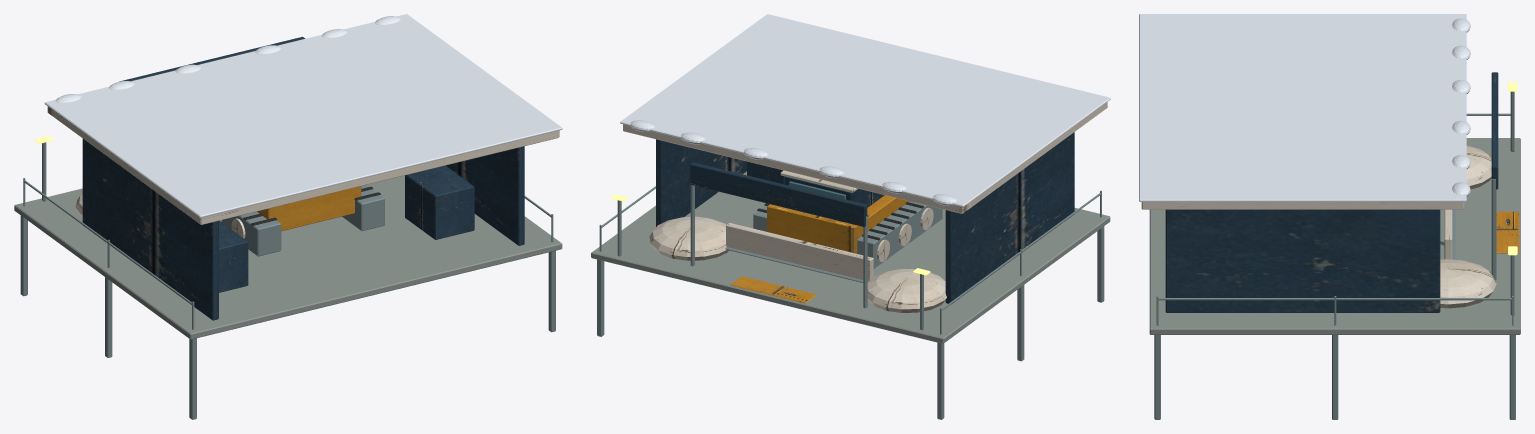
The model's file is frostline.glb.
3 views of the same model, side by side, from view 1: azimuth 30°, elevation 25°; view 2: azimuth 150°, elevation 25°; view 3: azimuth 270°, elevation 25° (orthographic). The views are drawn at different scales.
Parts seen in each view (by area): view 1: static_signature_snow, static_signature_deck, static_signature_paint, static_signature_steel, snow_groomer_signature_paint, snow_groomer_signature_steel; view 2: static_signature_snow, static_signature_paint, static_signature_deck, snow_groomer_signature_paint, static_signature_steel, groomer_blade_signature_paint, snow_groomer_signature_steel, groomer_blade_signature_steel; view 3: static_signature_snow, static_signature_paint, static_signature_deck, static_signature_steel, groomer_blade_signature_paint.
Part boxes in pixels (left/top/right/bottom): static_signature_snow: left=44, top=14, right=562, bottom=217; static_signature_deck: left=14, top=175, right=562, bottom=339; static_signature_paint: left=47, top=36, right=559, bottom=320; static_signature_steel: left=20, top=142, right=555, bottom=419; snow_groomer_signature_paint: left=220, top=186, right=380, bottom=238; snow_groomer_signature_steel: left=221, top=185, right=384, bottom=256; static_signature_snow: left=620, top=14, right=1110, bottom=206; static_signature_paint: left=623, top=102, right=1107, bottom=313; static_signature_deck: left=591, top=171, right=1110, bottom=343; snow_groomer_signature_paint: left=757, top=170, right=933, bottom=261; static_signature_steel: left=597, top=185, right=1104, bottom=419; groomer_blade_signature_paint: left=726, top=223, right=873, bottom=281; snow_groomer_signature_steel: left=753, top=201, right=942, bottom=268; groomer_blade_signature_steel: left=725, top=247, right=868, bottom=282; static_signature_snow: left=1139, top=14, right=1470, bottom=201; static_signature_paint: left=1141, top=72, right=1519, bottom=312; static_signature_deck: left=1149, top=138, right=1520, bottom=334; static_signature_steel: left=1154, top=91, right=1515, bottom=419; groomer_blade_signature_paint: left=1444, top=209, right=1452, bottom=259.
Bounding box in the file's own units: 28 × 15.25 × 23.65.
Materials: 6 (1 with a texture image).
